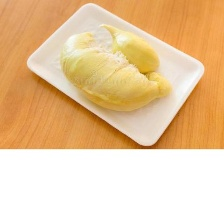foam_box: (23, 0, 209, 149)
